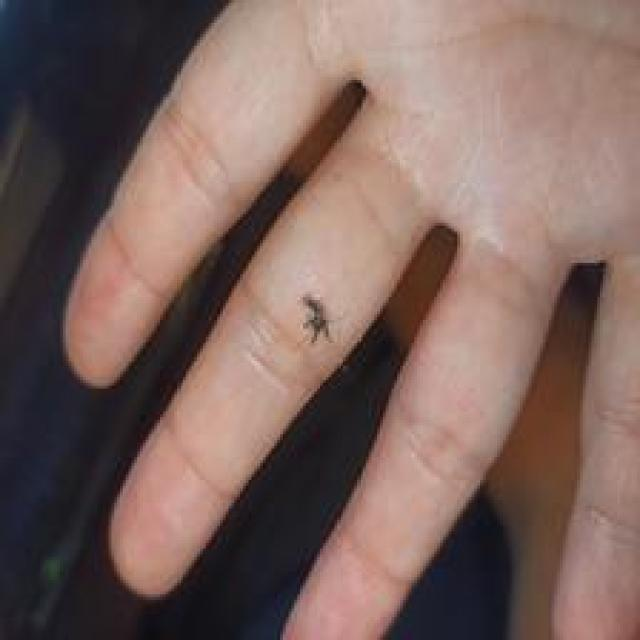Aedes albopictus: (298, 293, 333, 344)
